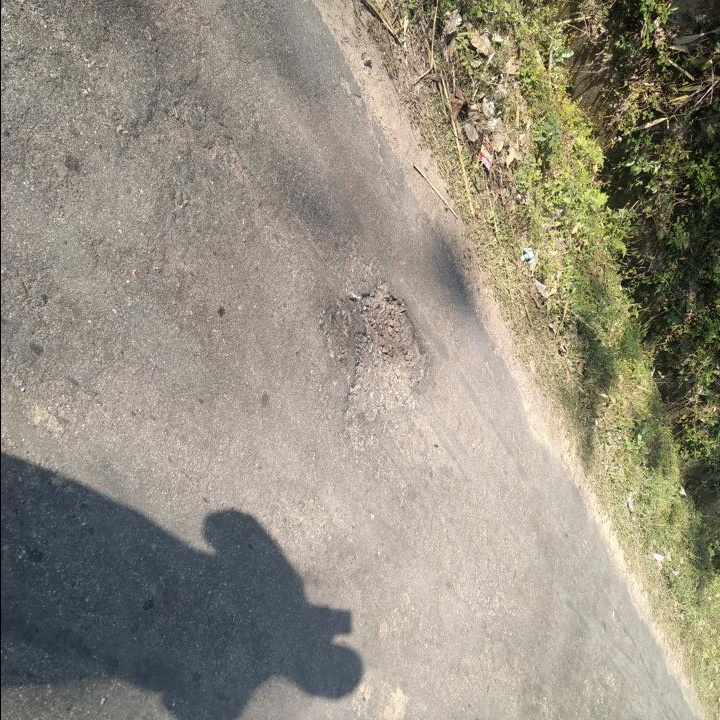pothole: (337, 280, 432, 420)
